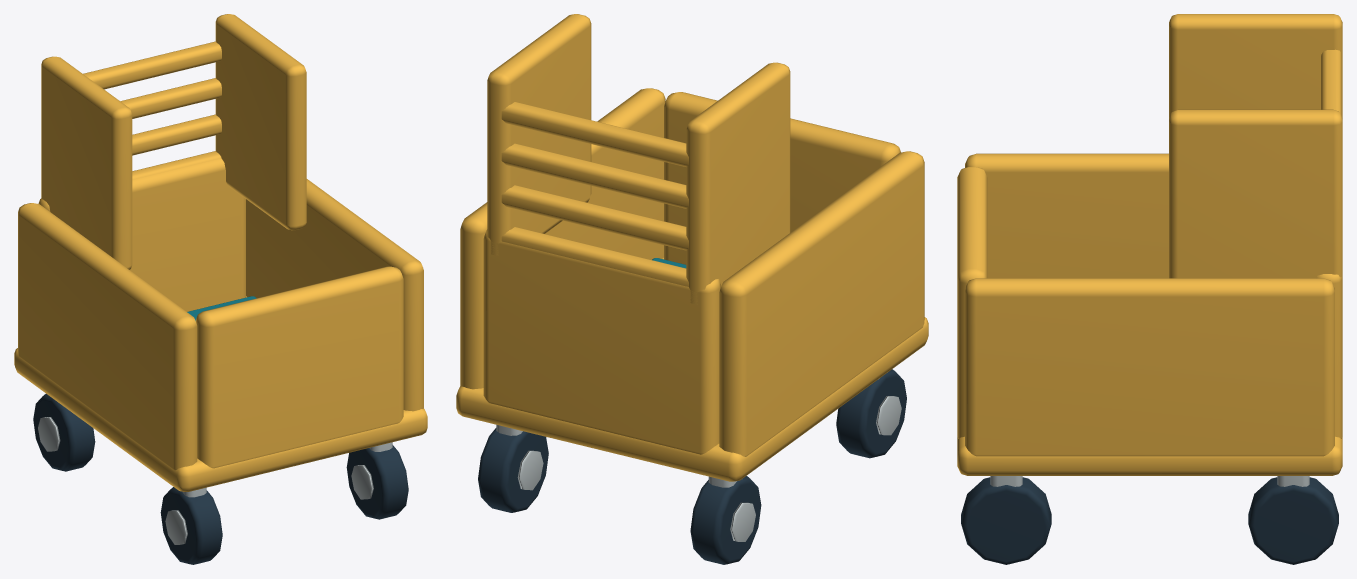
The model's file is Utility_Mop_Bucket.glb.
The picture shows the model from 3 angles, left to right: view 1: azimuth 30°, elevation 25°; view 2: azimuth 150°, elevation 25°; view 3: azimuth 270°, elevation 25°; orthographic projection. The views are drawn at different scales.
Parts seen in each view (by area): view 1: Utility_Mop_Bucket__Visual, Wringer_Pivot__Visual, Caster_Pivot.004__Visual, Caster_Pivot.006__Visual, Caster_Pivot.005__Visual; view 2: Utility_Mop_Bucket__Visual, Wringer_Pivot__Visual, Caster_Pivot.005__Visual, Caster_Pivot.007__Visual, Caster_Pivot.004__Visual; view 3: Utility_Mop_Bucket__Visual, Wringer_Pivot__Visual, Caster_Pivot.006__Visual, Caster_Pivot.007__Visual.
Part boxes in pixels (left/top/right/bottom): Utility_Mop_Bucket__Visual: left=14, top=158, right=427, bottom=497; Wringer_Pivot__Visual: left=41, top=14, right=306, bottom=269; Caster_Pivot.004__Visual: left=160, top=487, right=222, bottom=564; Caster_Pivot.006__Visual: left=346, top=445, right=408, bottom=519; Caster_Pivot.005__Visual: left=33, top=394, right=95, bottom=471; Utility_Mop_Bucket__Visual: left=456, top=88, right=928, bottom=487; Wringer_Pivot__Visual: left=487, top=14, right=790, bottom=304; Caster_Pivot.005__Visual: left=690, top=476, right=761, bottom=564; Caster_Pivot.007__Visual: left=478, top=428, right=548, bottom=512; Caster_Pivot.004__Visual: left=836, top=369, right=906, bottom=458; Utility_Mop_Bucket__Visual: left=957, top=153, right=1342, bottom=486; Wringer_Pivot__Visual: left=1169, top=14, right=1342, bottom=278; Caster_Pivot.006__Visual: left=961, top=477, right=1051, bottom=564; Caster_Pivot.007__Visual: left=1248, top=477, right=1338, bottom=564.
Size of the model in its own units: 0.43 by 0.65 by 0.51.
Materials: 1 (1 with a texture image).
